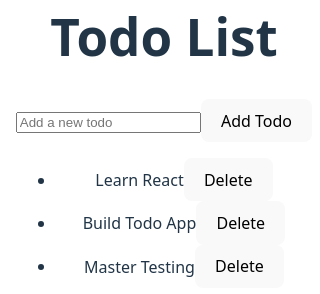
Test case: TodoList › can delete a todo
Expected: the text "Learn React" is shown, x1=95 y1=169 x2=184 y2=191
Click the button "Delete" next to "Learn React" at (228,180), box x1=184 y1=158 x2=273 y2=202
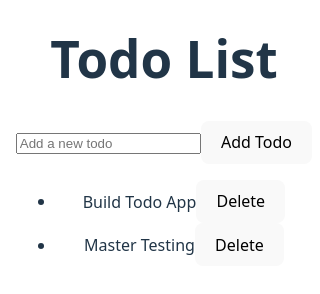
Expected: the text "Learn React" is gone
